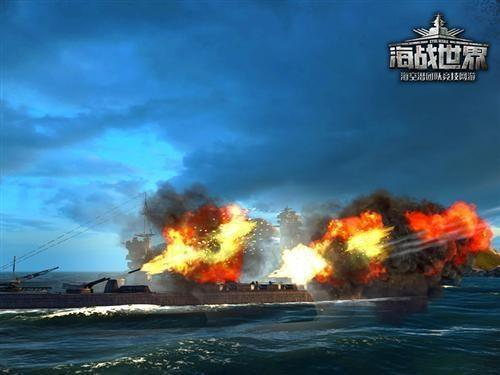fire: (129, 178, 489, 295)
